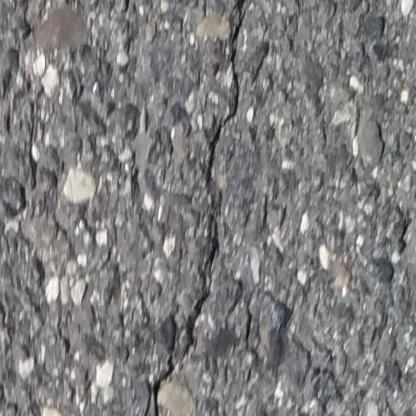Cracks: (144, 0, 258, 416)
